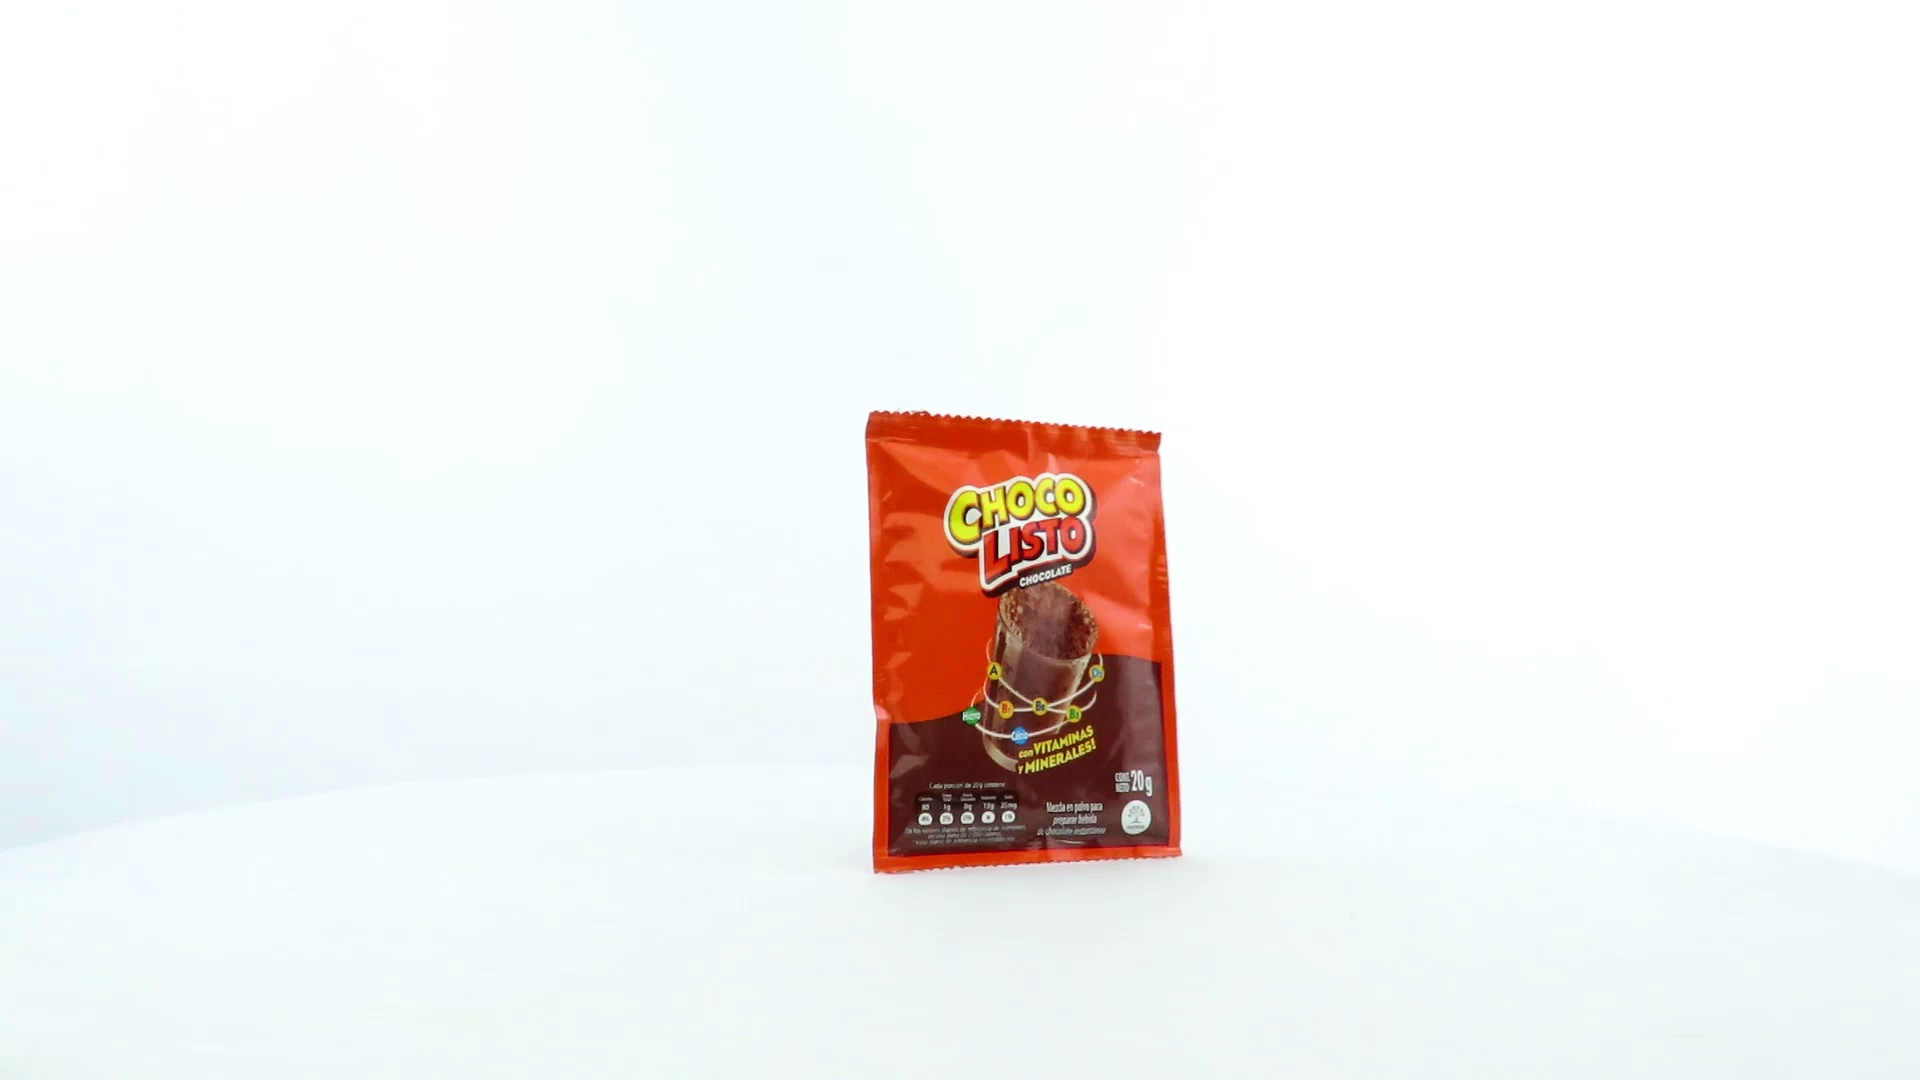COL0170103SOB02000: (860, 405, 1189, 881)
